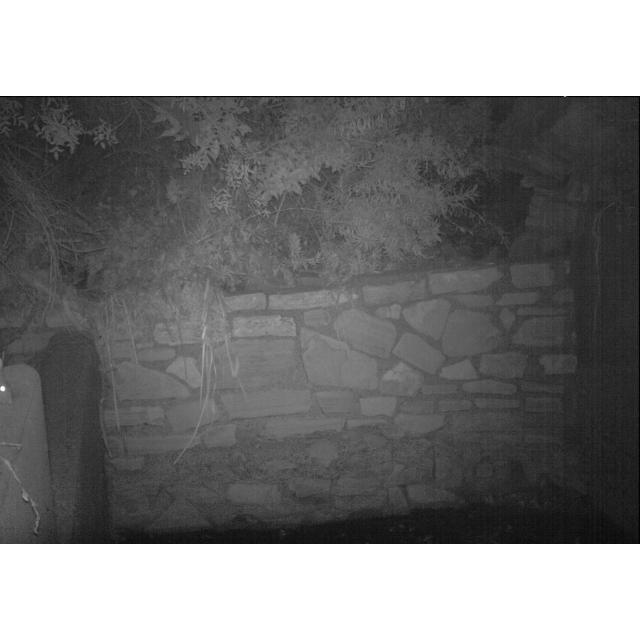animals: (1, 351, 20, 409)
